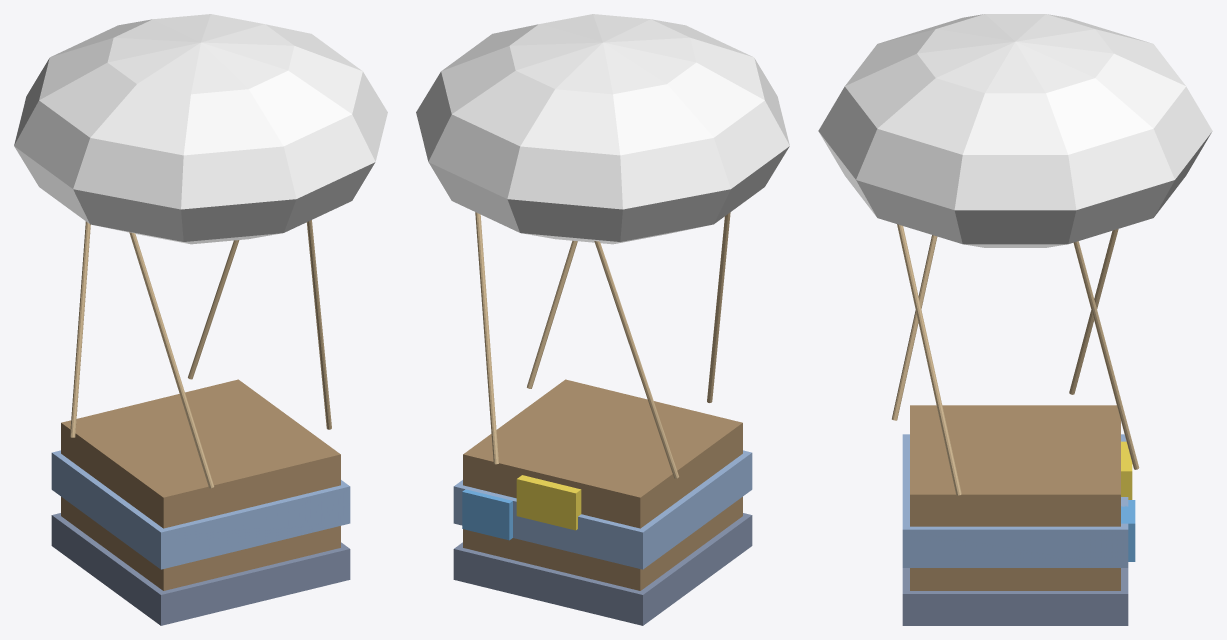
The model's file is royal_delivery.glb.
The picture shows the model from 3 angles, left to right: view 1: azimuth 30°, elevation 25°; view 2: azimuth 150°, elevation 25°; view 3: azimuth 270°, elevation 25°; orthographic projection. The views are drawn at different scales.
Visible parts, largest first — view 1: royal_delivery; view 2: royal_delivery; view 3: royal_delivery.
Part boxes in pixels (x1,y1,x2,y2): royal_delivery: (14,14,387,625); royal_delivery: (416,14,789,625); royal_delivery: (818,14,1212,625).
Bounding box in the file's own units: 2.66 × 4.21 × 2.8.
